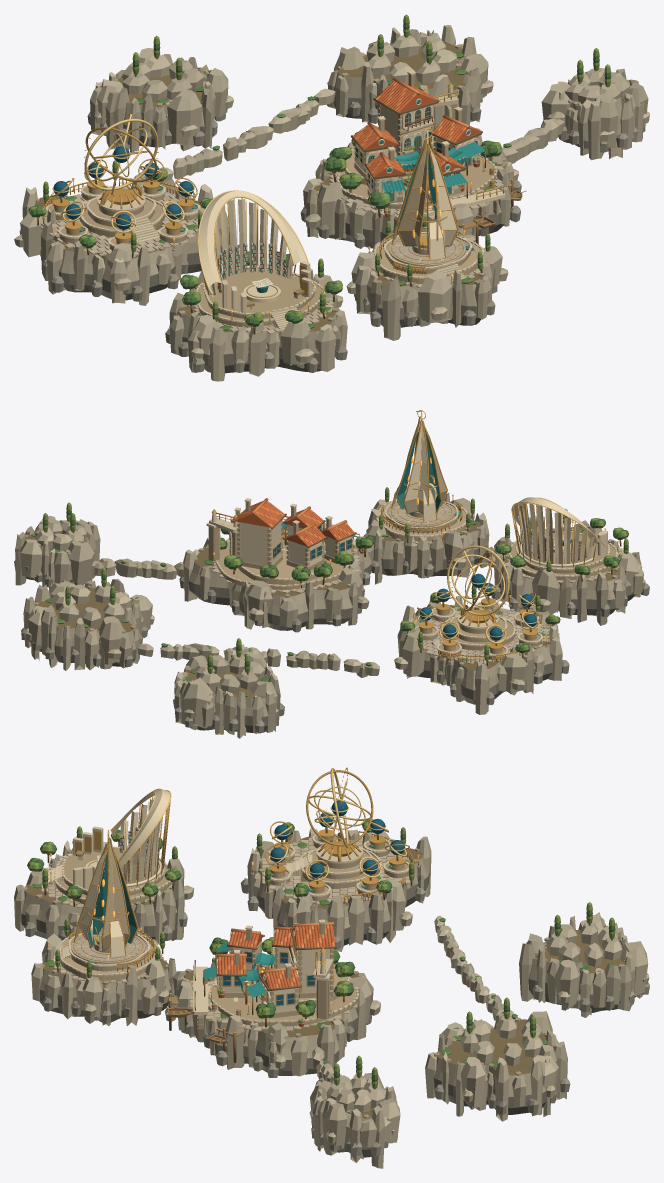
File: atlas-world.glb
3 views of the same model, one above another, from view 1: azimuth 30°, elevation 25°; view 2: azimuth 150°, elevation 25°; view 3: azimuth 270°, elevation 25° (orthographic). The views are drawn at different scales.
Visible parts, largest first — view 1: ambient_cliff_light, common_ivory, common_cliff_light, rocket_cliff_light, atlas_cliff_light, groot_cliff_light, groot_ivory, rocket_brass, common_limestone, groot_terracotta, groot_limestone, atlas_ivory (+31 smaller); view 2: ambient_cliff_light, rocket_cliff_light, groot_cliff_light, common_cliff_light, atlas_cliff_light, common_ivory, groot_ivory, groot_limestone, rocket_brass, atlas_ivory, ambient_cliff, groot_cliff (+24 smaller); view 3: ambient_cliff_light, rocket_cliff_light, groot_cliff_light, atlas_cliff_light, common_ivory, common_cliff_light, groot_ivory, groot_limestone, rocket_brass, ambient_cliff, atlas_limestone, groot_terracotta (+30 smaller).
Part boxes in pixels (<box>): ambient_cliff_light: <box>90,25,649,184</box>; common_ivory: <box>196,191,325,332</box>; common_cliff_light: <box>169,263,347,381</box>; rocket_cliff_light: <box>14,172,229,305</box>; atlas_cliff_light: <box>346,225,508,340</box>; groot_cliff_light: <box>303,128,518,247</box>; groot_ivory: <box>336,70,505,216</box>; rocket_brass: <box>42,112,197,248</box>; common_limestone: <box>198,270,323,327</box>; groot_terracotta: <box>352,81,480,216</box>; groot_limestone: <box>339,74,498,216</box>; atlas_ivory: <box>373,139,484,283</box>; ambient_cliff_light: <box>15,515,379,738</box>; rocket_cliff_light: <box>394,596,562,714</box>; groot_cliff_light: <box>183,523,374,629</box>; common_cliff_light: <box>486,520,645,625</box>; atlas_cliff_light: <box>363,493,489,584</box>; common_ivory: <box>508,497,617,577</box>; groot_ivory: <box>206,498,356,586</box>; groot_limestone: <box>208,501,356,590</box>; rocket_brass: <box>412,550,547,662</box>; atlas_ivory: <box>376,420,467,537</box>; ambient_cliff: <box>14,560,284,733</box>; groot_cliff: <box>179,563,371,632</box>; ambient_cliff_light: <box>309,912,649,1168</box>; rocket_cliff_light: <box>247,828,431,951</box>; groot_cliff_light: <box>165,962,380,1076</box>; atlas_cliff_light: <box>31,924,176,1025</box>; common_ivory: <box>47,788,170,900</box>; common_cliff_light: <box>14,840,194,945</box>; groot_ivory: <box>193,919,359,1022</box>; groot_limestone: <box>198,923,357,1028</box>; rocket_brass: <box>251,767,419,904</box>; ambient_cliff: <box>311,979,649,1157</box>; atlas_limestone: <box>60,838,160,981</box>; groot_terracotta: <box>212,925,335,1026</box>.
Bounding box in the file's own units: 33.15 × 9.57 × 30.51.
